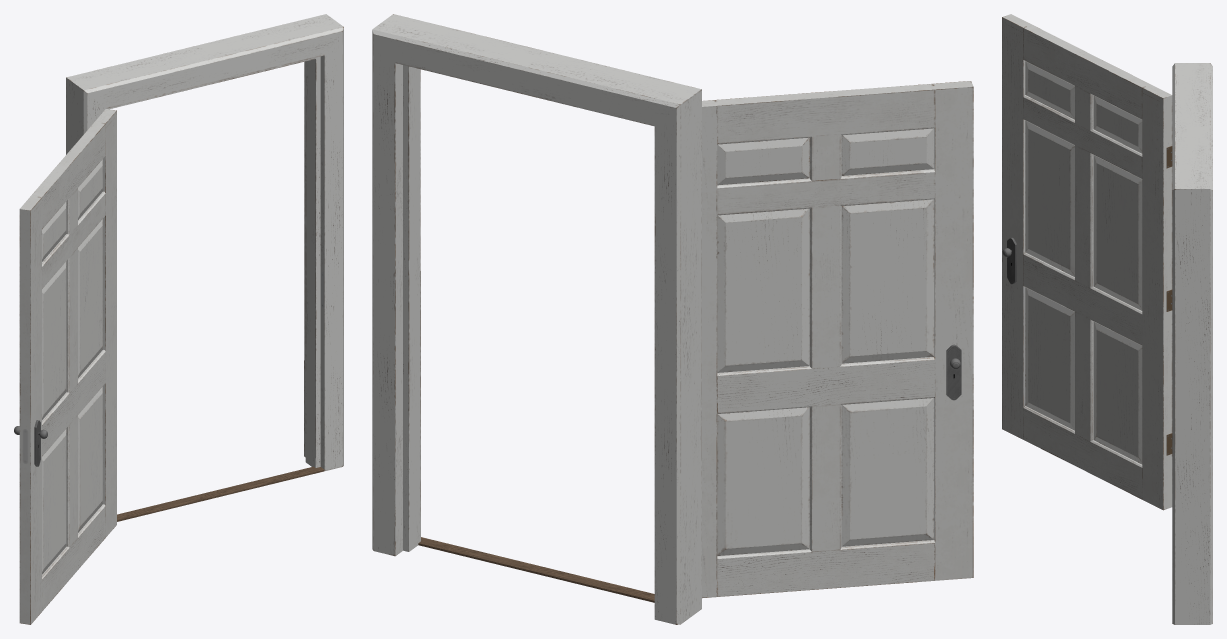
3 views of the same model, side by side, from view 1: azimuth 30°, elevation 25°; view 2: azimuth 150°, elevation 25°; view 3: azimuth 270°, elevation 25° (orthographic). The views are drawn at different scales.
Parts seen in each view (by area): view 1: Door, Frame; view 2: Door, Frame; view 3: Door, Frame.
Boxes of the visible parts, left/top/right/bottom form: Door: left=14, top=109, right=116, bottom=624; Frame: left=66, top=14, right=343, bottom=521; Door: left=702, top=81, right=973, bottom=598; Frame: left=372, top=14, right=701, bottom=624; Door: left=1002, top=14, right=1172, bottom=510; Frame: left=1172, top=63, right=1212, bottom=624.
Size of the model in its own units: 2.05 by 2.11 by 0.9246.
Materials: 4 (4 with a texture image).
